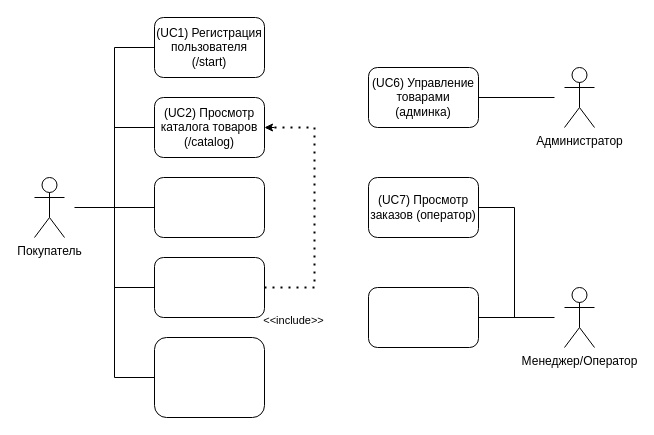
This 654x435 diagram has some shape labels left out. The shapes that lost their labels are listed below. From the top down, each one's box as (x1, y1, x2, y2) in pixels, then its label:
(154, 176, 264, 238): (UC3) Получение рекомендации AI (/ai)
(154, 256, 264, 318): (UC4) Оформление заказа (/buy)
(368, 286, 478, 348): (UC8) Изменение статуса заказа
(154, 336, 264, 418): (UC5)Просмотр моих заказов (/myorders, /orders web)
